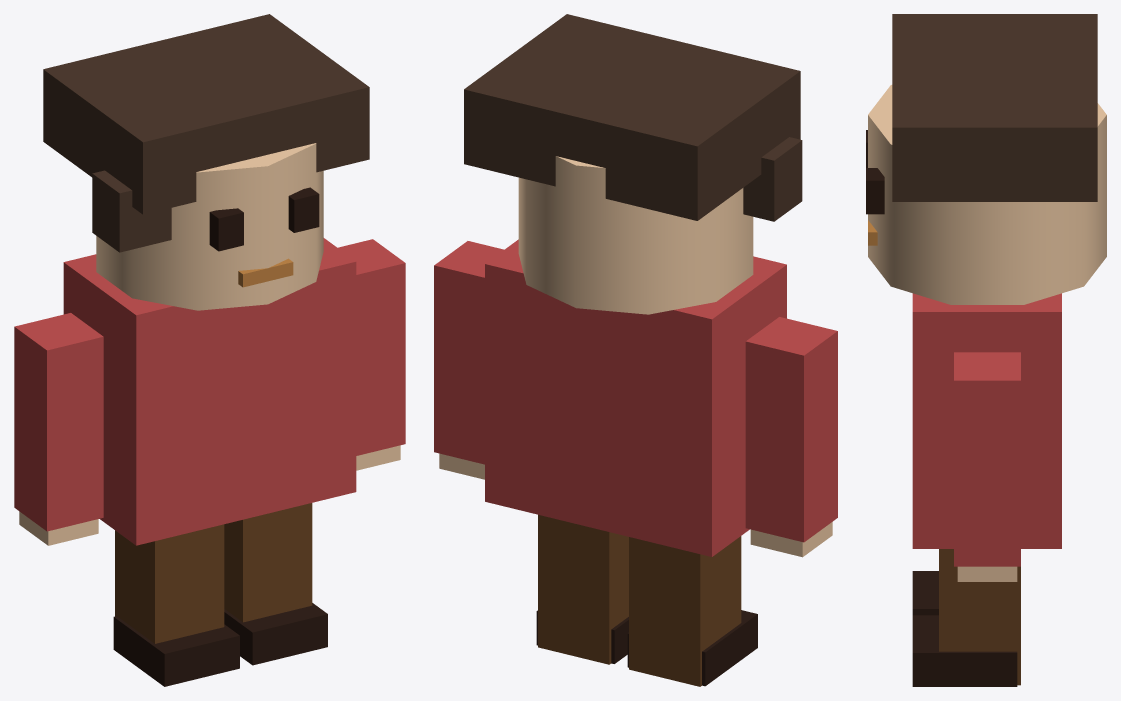
Rendered from villager.glb.
The picture shows the model from 3 angles, left to right: view 1: azimuth 30°, elevation 25°; view 2: azimuth 150°, elevation 25°; view 3: azimuth 270°, elevation 25°; orthographic projection. The views are drawn at different scales.
Visible parts, largest first — view 1: villager; view 2: villager; view 3: villager.
Boxes of the visible parts, box(x1,y1,x2,y2) form: villager: box(14, 14, 405, 686); villager: box(434, 14, 837, 686); villager: box(866, 14, 1106, 686).
Bounding box in the file's own units: 1.14 × 1.7 × 0.645.
